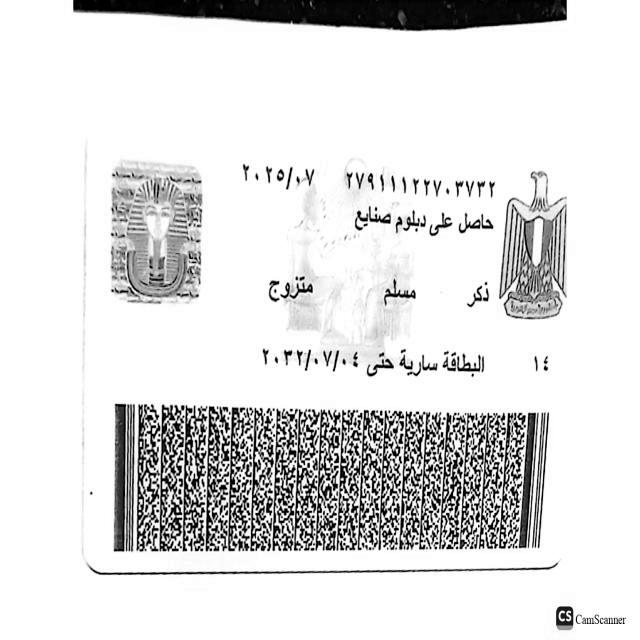id_card: (82, 141, 581, 593)
